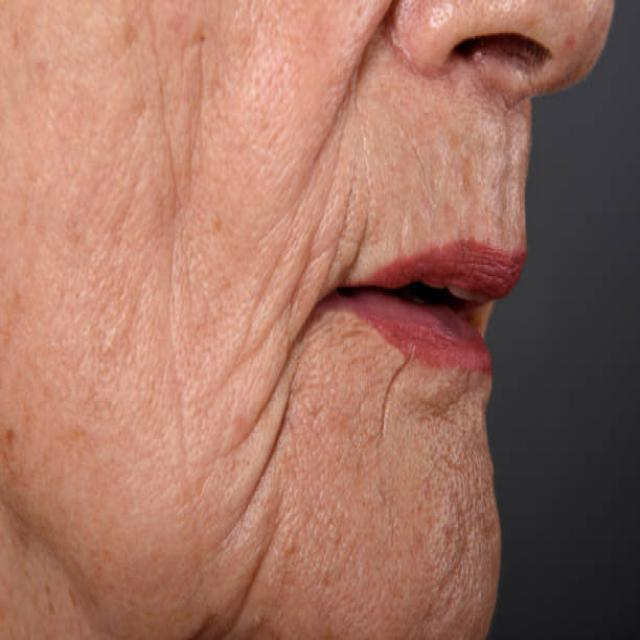dry: (49, 20, 336, 568)
